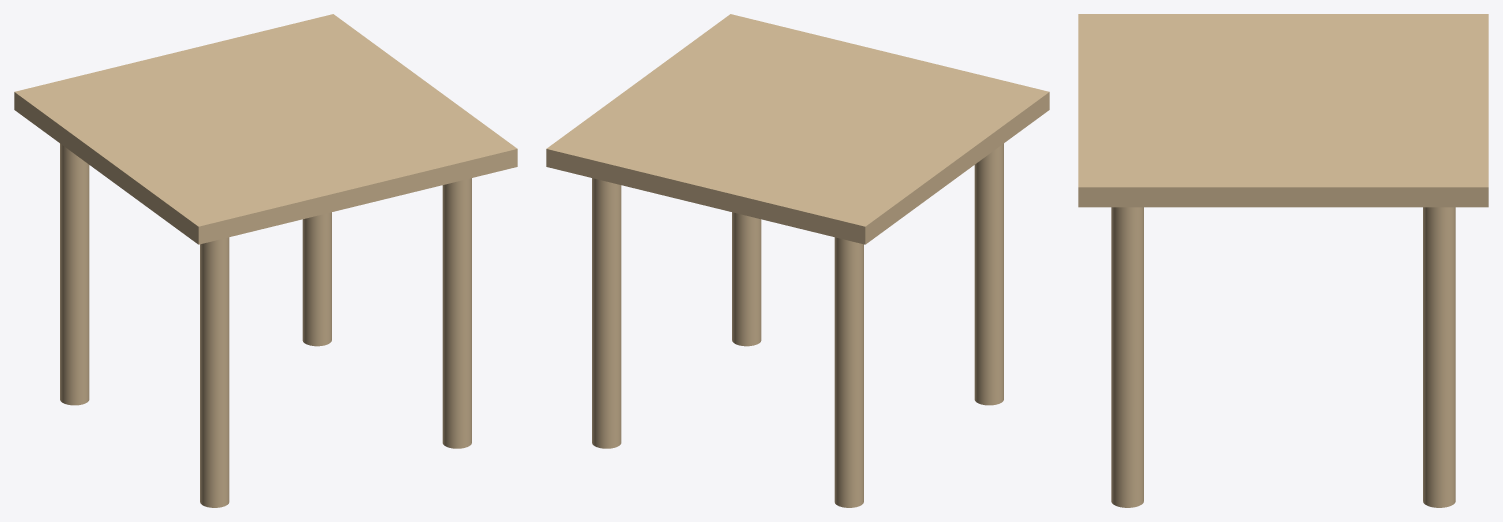
Rendered from ikea-tingby-70362776-g2-proxy.glb.
3 renders of one model, left to right at view 1: azimuth 30°, elevation 25°; view 2: azimuth 150°, elevation 25°; view 3: azimuth 270°, elevation 25°, orthographic. The views are drawn at different scales.
Visible parts, largest first — view 1: proxy_body, leg (×4); view 2: proxy_body, leg (×4); view 3: proxy_body, leg (×2).
Boxes of the visible parts, x1,y1,x2,y2 form: proxy_body: (14,14,517,244); leg (×4): (60,143,471,507); proxy_body: (546,14,1049,244); leg (×4): (592,143,1003,507); proxy_body: (1078,14,1488,207); leg (×2): (1111,207,1455,507).
Size of the model in its own units: 0.5 by 0.45 by 0.5.
